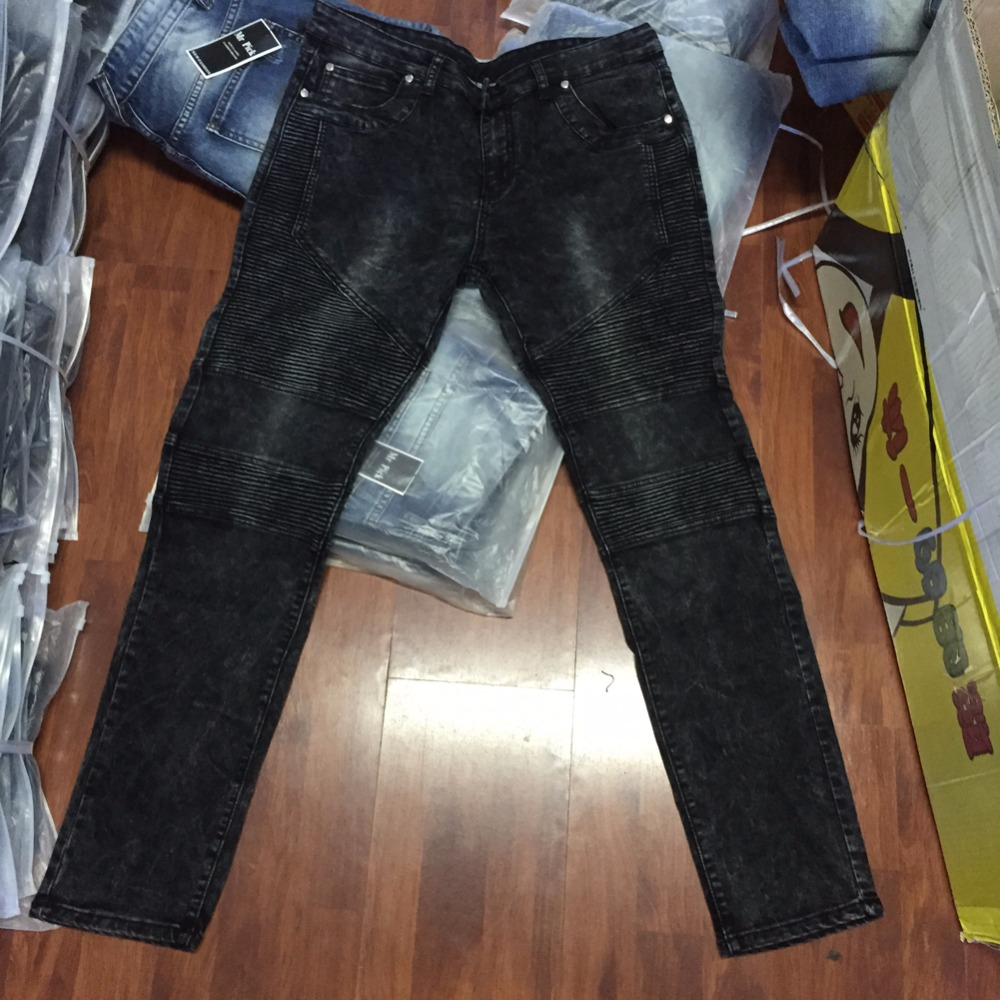Jeans: (25, 7, 894, 956)
